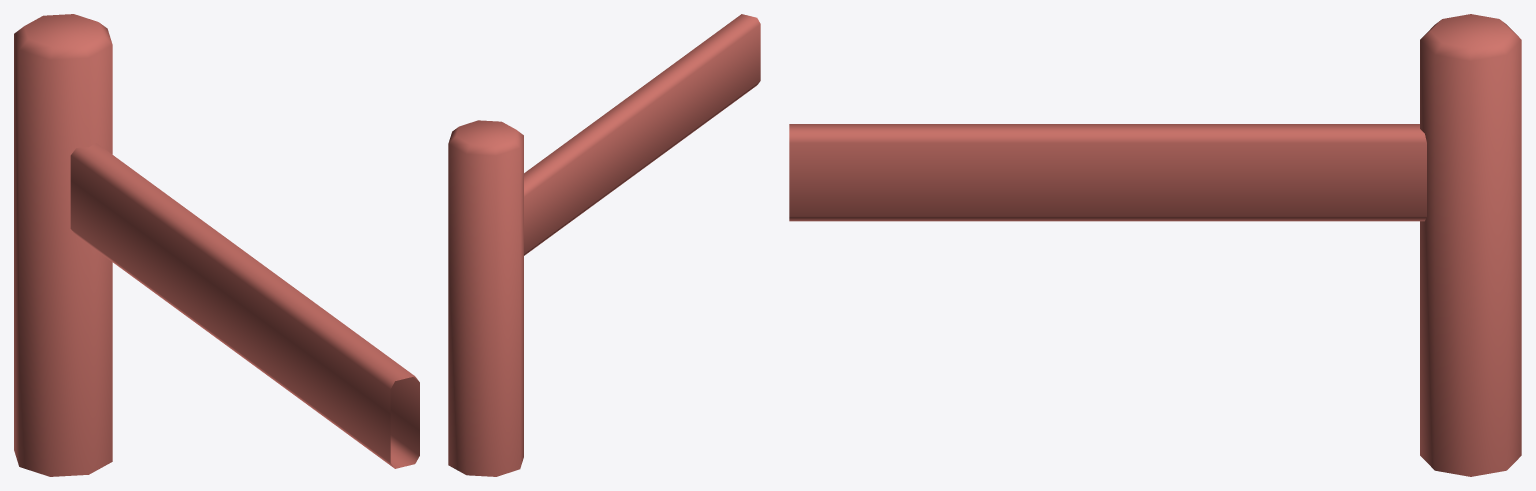
File: SM_Obstacle 1.fbx
3 views of the same model, side by side, from view 1: azimuth 30°, elevation 25°; view 2: azimuth 150°, elevation 25°; view 3: azimuth 270°, elevation 25° (orthographic). The views are drawn at different scales.
Visible parts, largest first — view 1: SM_Obstacle, SM_Obstacle_L; view 2: SM_Obstacle, SM_Obstacle_L; view 3: SM_Obstacle_L, SM_Obstacle.
Part boxes in pixels (<box>): SM_Obstacle: <box>14,14,112,476</box>; SM_Obstacle_L: <box>70,143,419,468</box>; SM_Obstacle: <box>448,120,523,476</box>; SM_Obstacle_L: <box>524,14,760,255</box>; SM_Obstacle_L: <box>789,124,1426,221</box>; SM_Obstacle: <box>1420,14,1521,476</box>.
Bounding box in the file's own units: 15.37 × 70.77 × 111.
